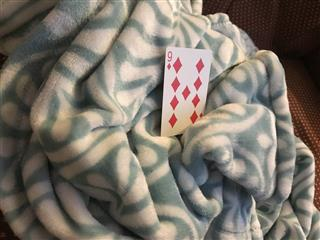NineOfDiamonds: (159, 45, 212, 136)
